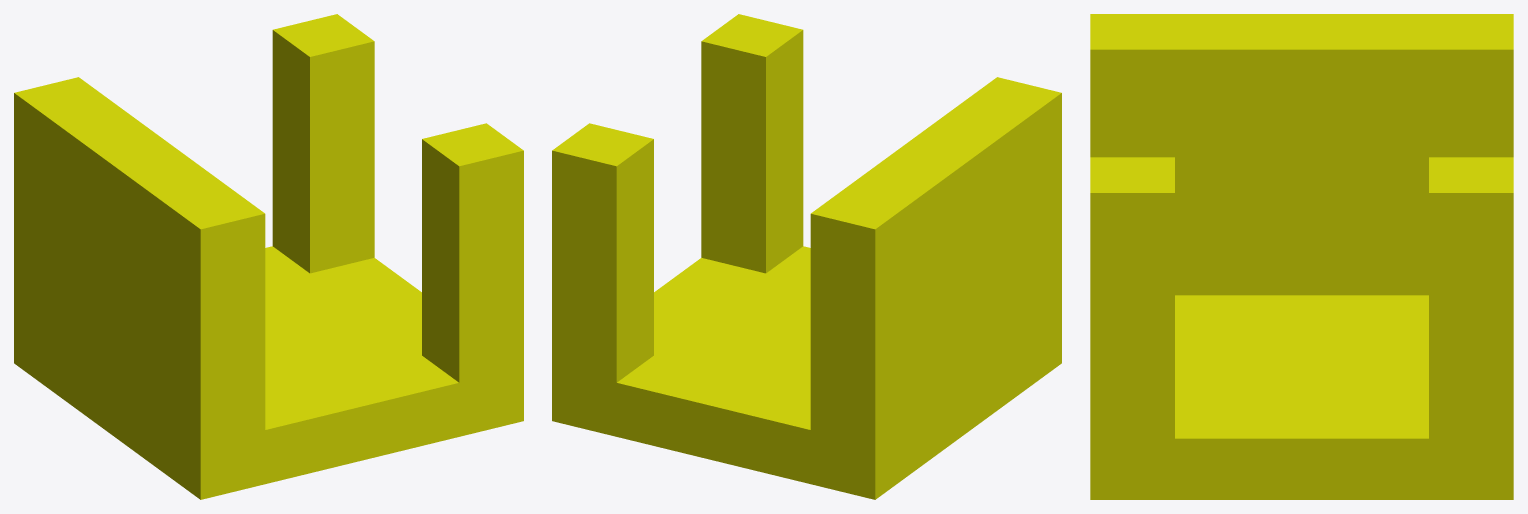
Rendered from Tunnel Box T_Turn.glb.
The picture shows the model from 3 angles, left to right: view 1: azimuth 30°, elevation 25°; view 2: azimuth 150°, elevation 25°; view 3: azimuth 270°, elevation 25°; orthographic projection. The views are drawn at different scales.
Visible parts, largest first — view 1: T_Turn; view 2: T_Turn; view 3: T_Turn.
Part boxes in pixels (<box>): T_Turn: <box>14,14,523,499</box>; T_Turn: <box>552,14,1061,499</box>; T_Turn: <box>1090,14,1513,499</box>.
Size of the model in its own units: 10 by 8 by 10.
